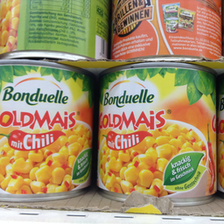corn: (97, 63, 218, 206), (1, 59, 97, 203), (112, 1, 223, 61), (1, 1, 109, 60)
